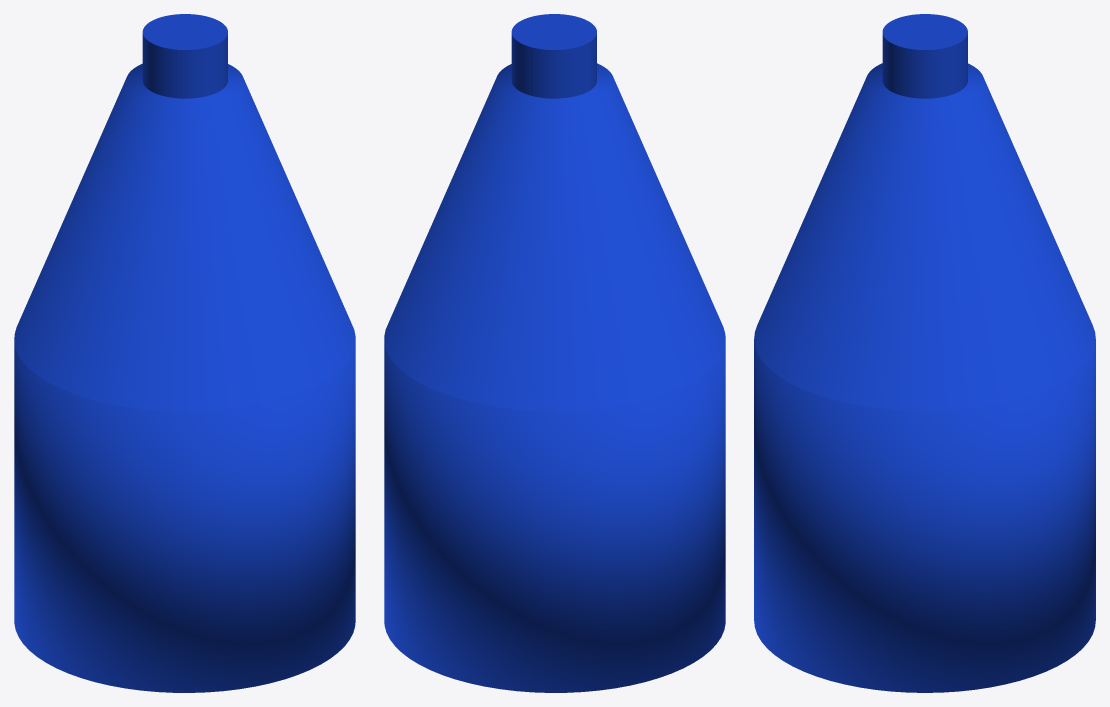
File: bottle1.fbx
3 renders of one model, left to right at view 1: azimuth 30°, elevation 25°; view 2: azimuth 150°, elevation 25°; view 3: azimuth 270°, elevation 25°, orthographic.
Visible parts, largest first — view 1: Cylinder; view 2: Cylinder; view 3: Cylinder.
Boxes of the visible parts, left/top/right/bottom form: Cylinder: left=14, top=14, right=355, bottom=692; Cylinder: left=384, top=14, right=725, bottom=692; Cylinder: left=754, top=14, right=1095, bottom=692.
Size of the model in its own units: 200 by 380 by 200.
